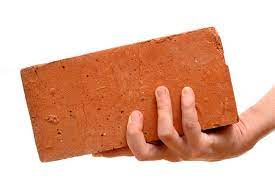brick: (15, 24, 243, 165)
